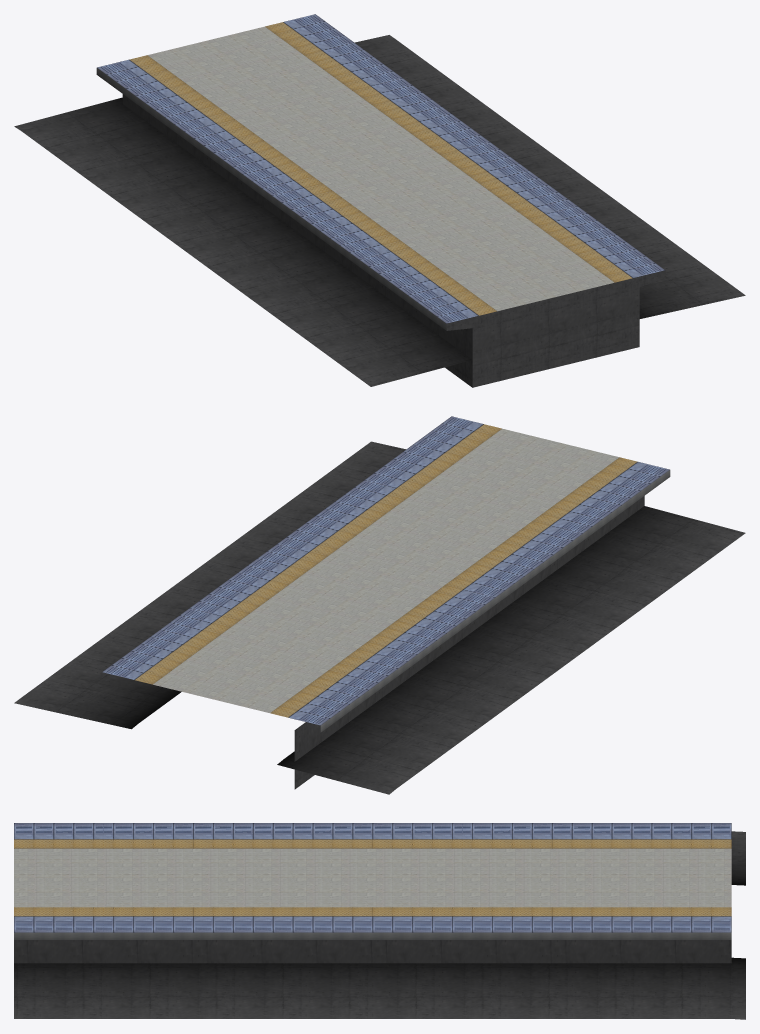
Rendered from AMB_MEI_CHIKA_HOME3.glb.
3 views of the same model, one above another, from view 1: azimuth 30°, elevation 25°; view 2: azimuth 150°, elevation 25°; view 3: azimuth 270°, elevation 25° (orthographic). The views are drawn at different scales.
Visible parts, largest first — view 1: BASE; view 2: BASE; view 3: BASE.
Part boxes in pixels (bbox=[...]): BASE: bbox=[14, 14, 745, 387]; BASE: bbox=[14, 416, 745, 794]; BASE: bbox=[14, 823, 745, 1019].
Size of the model in its own units: 30.97 by 5.55 by 51.
5 materials, 5 textured.
